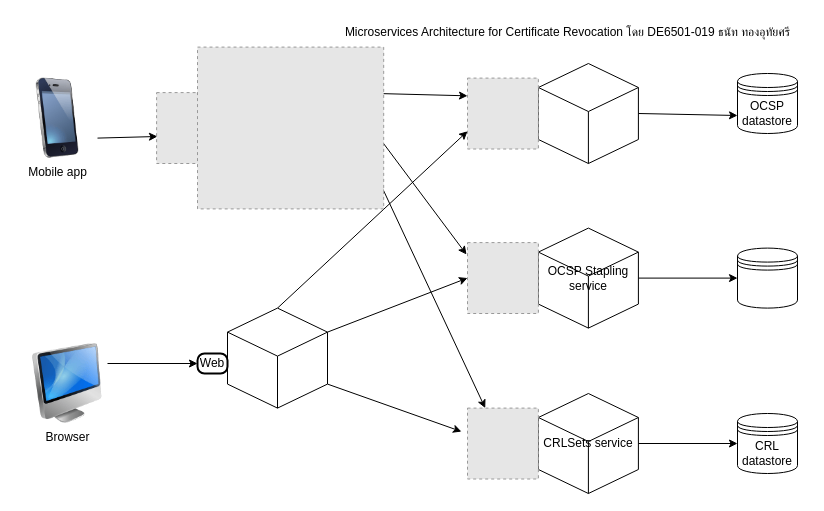
The diagram is 824 pixels wide and 511 high, and some of its shapes have lost their labels. Grey dashed boxes stand in for pictures. Here are the shapes that lost their labels. From the top down, the centre of each, then its label:
At pixel 587 113: "OCSP Reponder service".
At pixel 767 277: "OCSP Stapling datastore".
At pixel 277 357: "SubCA WebApp".
